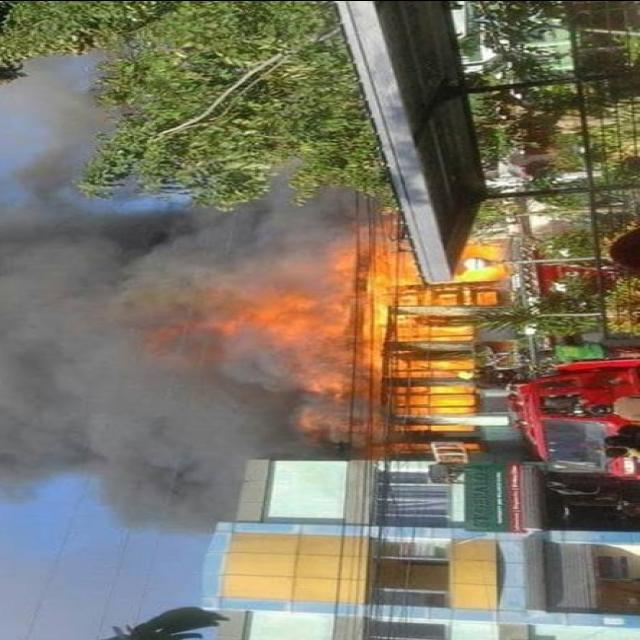Fire: (261, 219, 517, 447)
